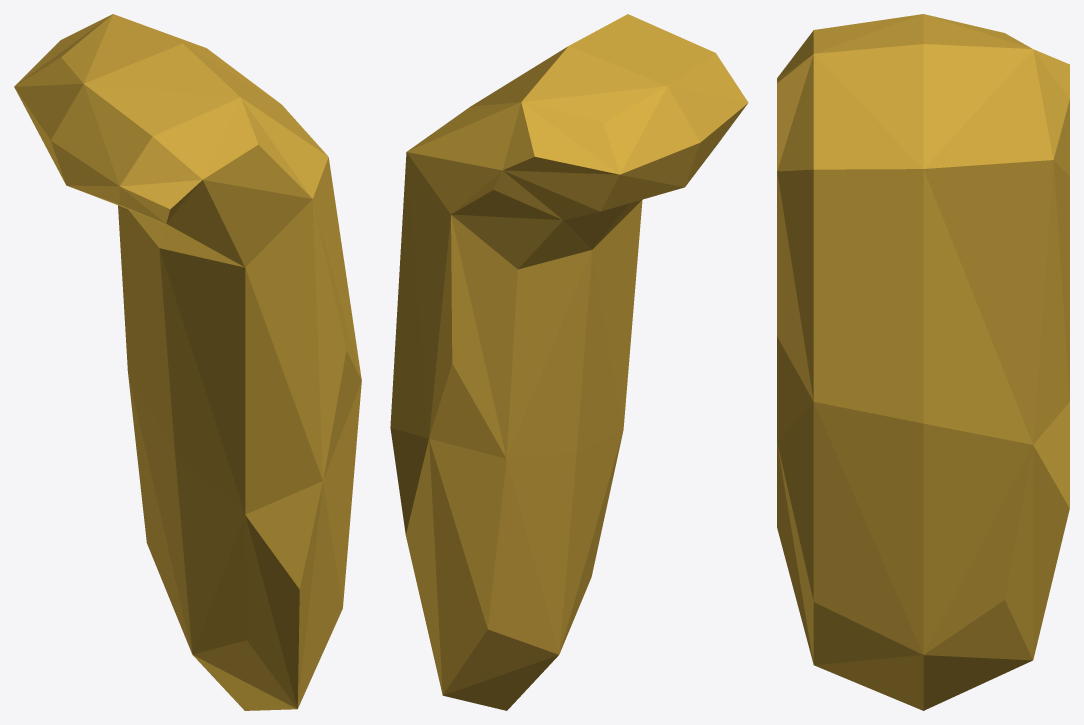
3 views of the same model, side by side, from view 1: azimuth 30°, elevation 25°; view 2: azimuth 150°, elevation 25°; view 3: azimuth 270°, elevation 25° (orthographic). The views are drawn at different scales.
Parts seen in each view (by area): view 1: 1_0057D0_0; view 2: 1_0057D0_0; view 3: 1_0057D0_0.
Part boxes in pixels (bbox=[...]): 1_0057D0_0: bbox=[14, 14, 361, 710]; 1_0057D0_0: bbox=[390, 14, 748, 710]; 1_0057D0_0: bbox=[777, 14, 1069, 710].
Bounding box in the file's own units: 29.24 × 72.23 × 30.
